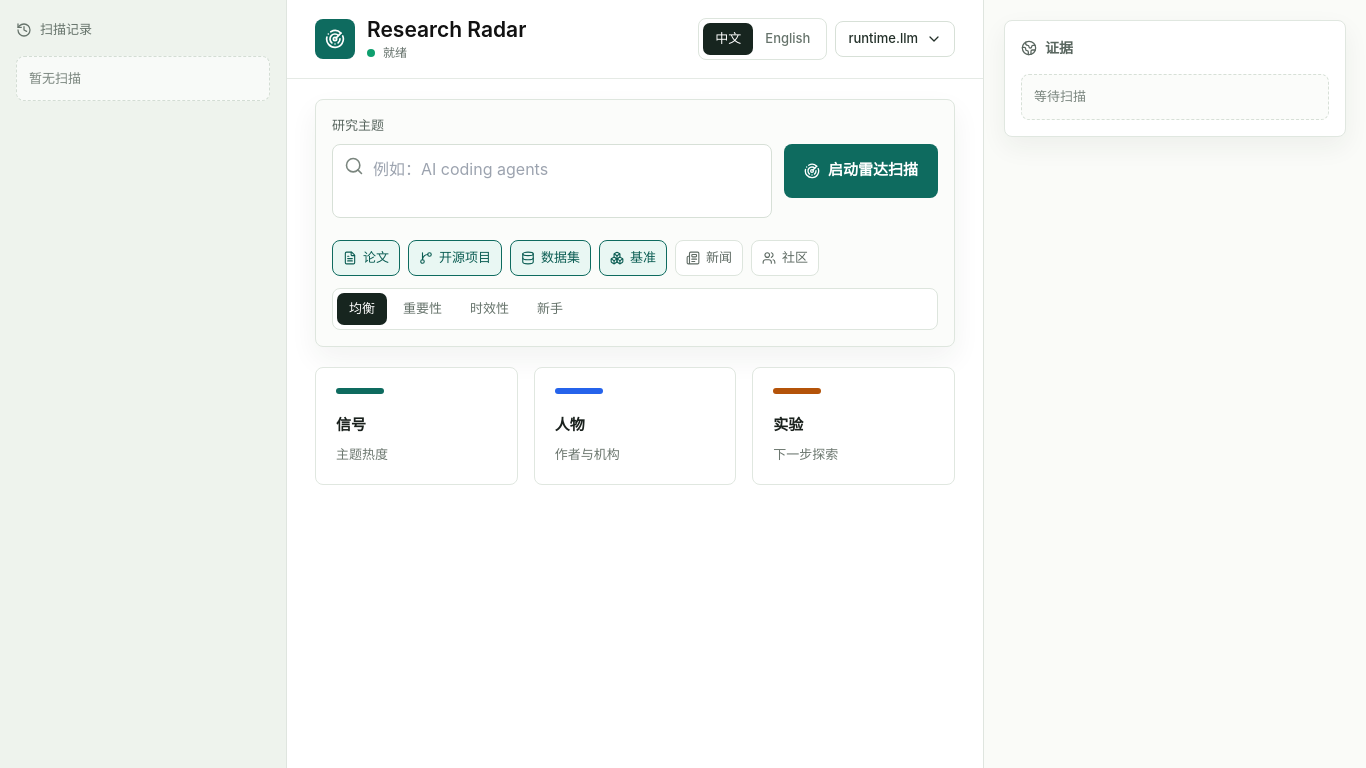
Test: Research Radar POC page › switches visible workbench copy to English
Click the button "English".
click(788, 39)  # box [753,23,822,55]
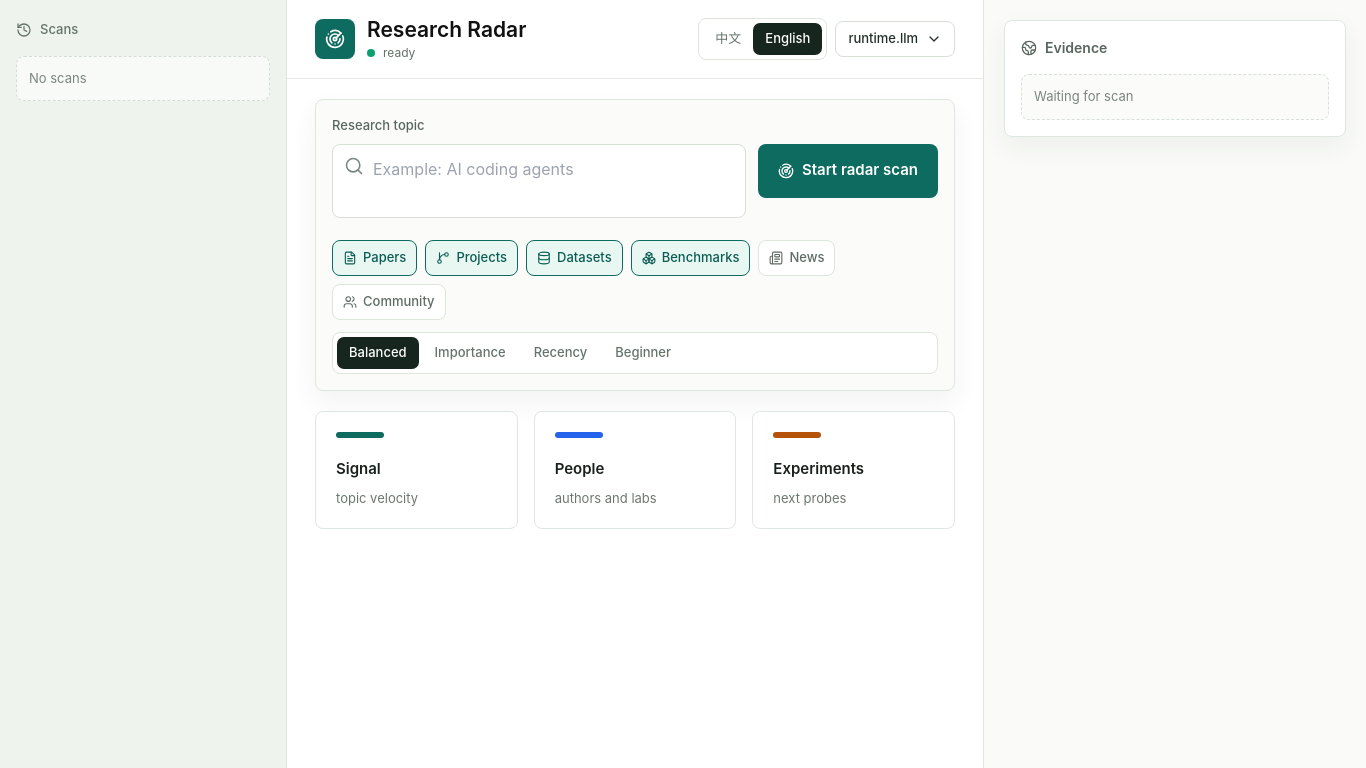
Expected: the text box labelled "Research topic" is shown, [332,144,746,218]
Expected: the button "Balanced" is shown, [337,336,419,368]
Expected: the button "Start radar scan" is shown, [758,144,938,198]
